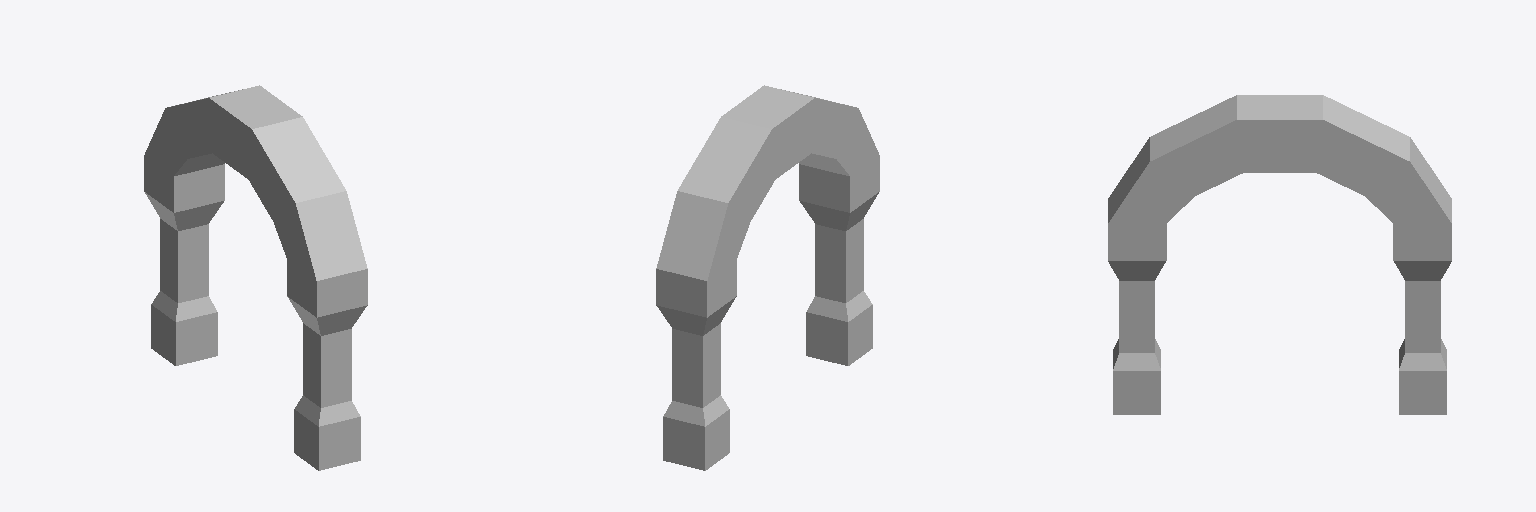
The model's file is prop_arc.obj.
3 renders of one model, left to right at view 1: azimuth 30°, elevation 25°; view 2: azimuth 150°, elevation 25°; view 3: azimuth 270°, elevation 25°, orthographic.
Parts seen in each view (by area): view 1: Cube_Cube.000_Cube_Cube.001; view 2: Cube_Cube.000_Cube_Cube.001; view 3: Cube_Cube.000_Cube_Cube.001.
Boxes of the visible parts, <box> form: Cube_Cube.000_Cube_Cube.001: <box>144,85,367,470</box>; Cube_Cube.000_Cube_Cube.001: <box>656,85,879,470</box>; Cube_Cube.000_Cube_Cube.001: <box>1108,95,1451,414</box>.
Size of the model in its own units: 0.4122 by 2.3 by 2.41.